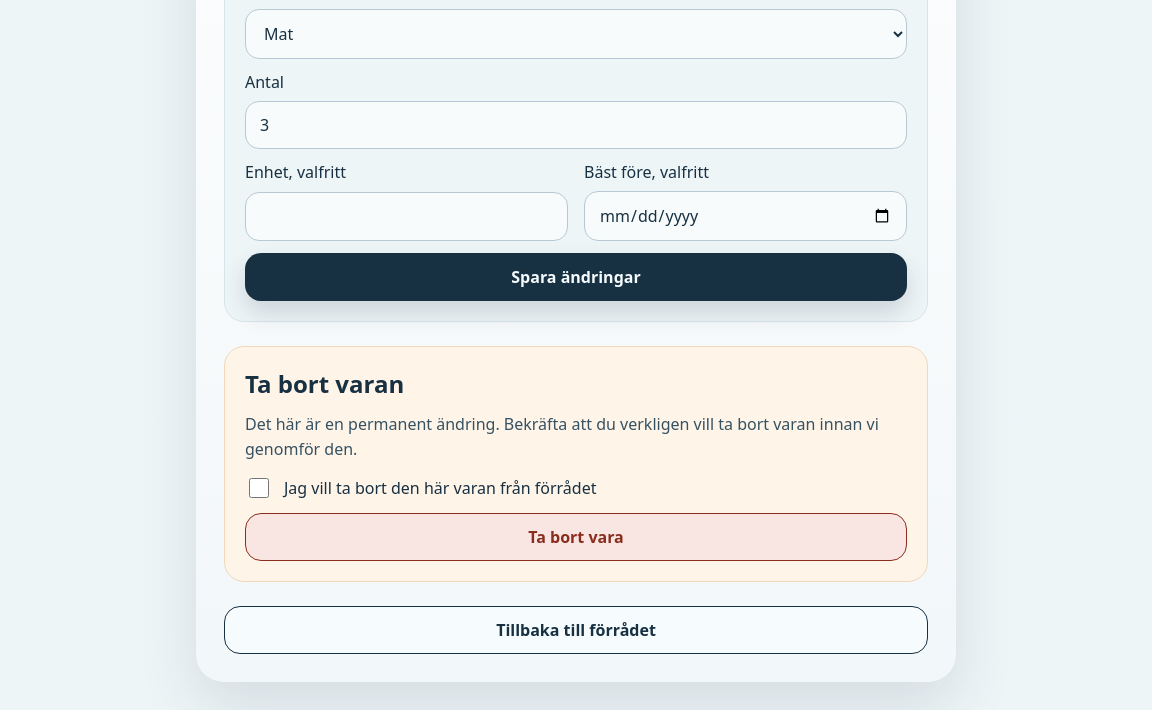
EditInventoryItemForm › requires explicit confirmation before deleting an item
The image size is (1152, 710).
Later steps or results of the test are not shown.
(page scrolled)
Expected: the button "Ta bort vara" is disabled, [245, 513, 907, 561]
Step 1. Click the checkbox labelled "Jag vill ta bort den här varan från förrådet" → (259, 488), box [249, 478, 269, 498]
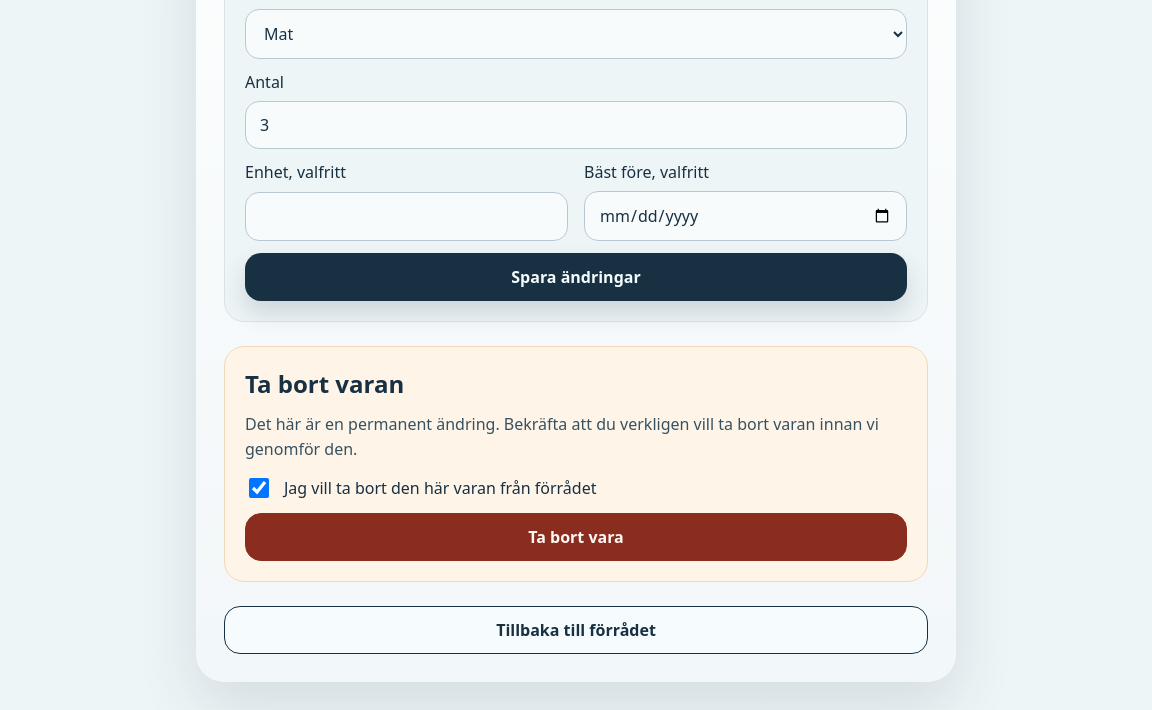
Expected: the button "Ta bort vara" is enabled, [245, 513, 907, 561]
